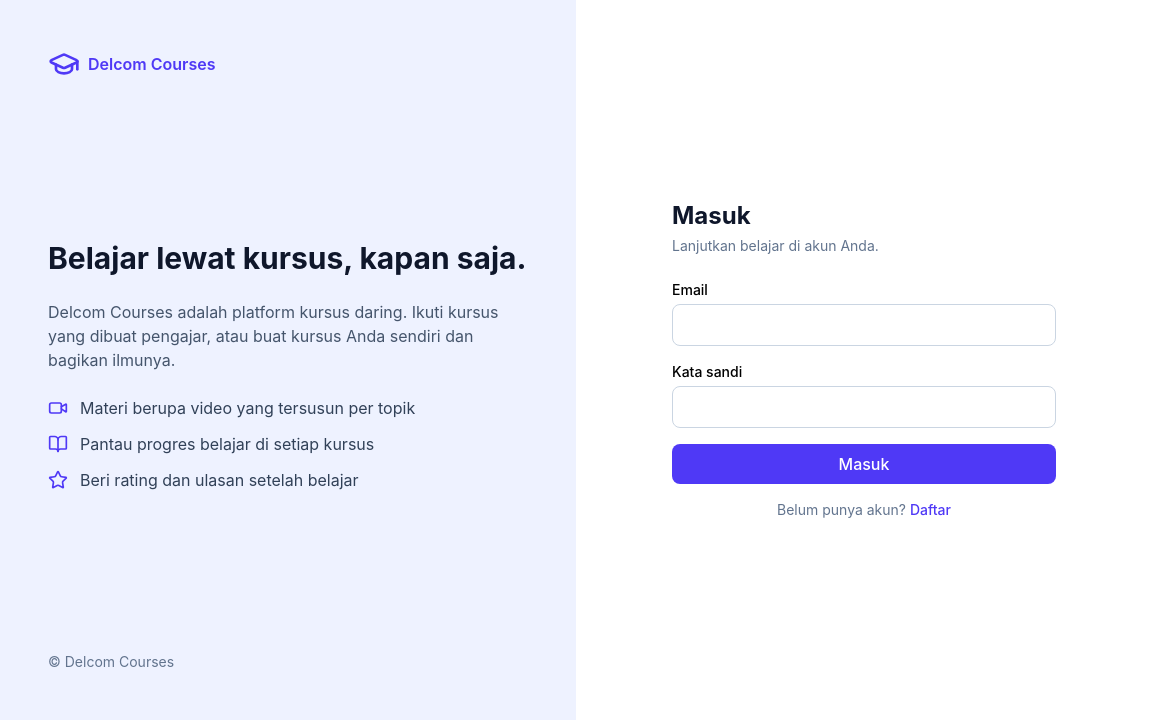
LoginPage › menolak isian kosong
The image size is (1152, 720).
Click the button "Masuk" at (864, 464), box [672,444,1056,484]
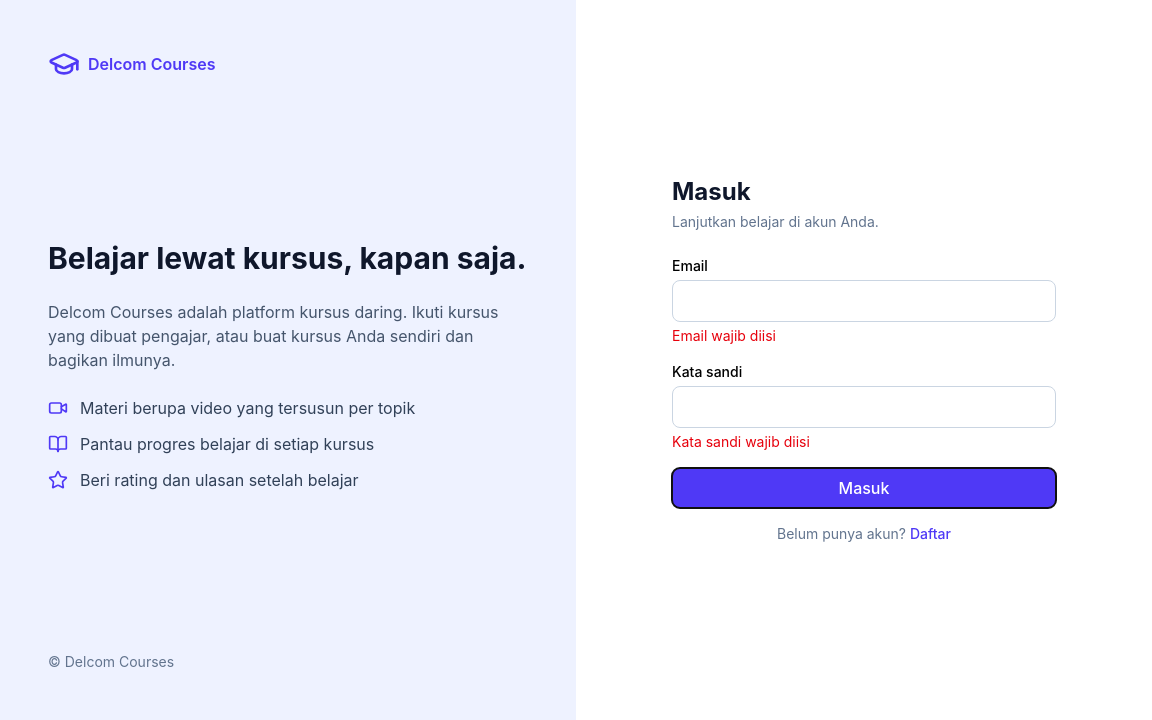
expect the text "Email wajib diisi" is shown: met, box [672,327,776,344]
expect the text "Kata sandi wajib diisi" is shown: met, box [672,433,810,450]
